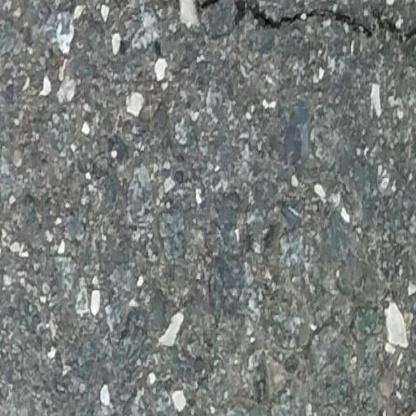Cracks: (155, 0, 416, 48)
